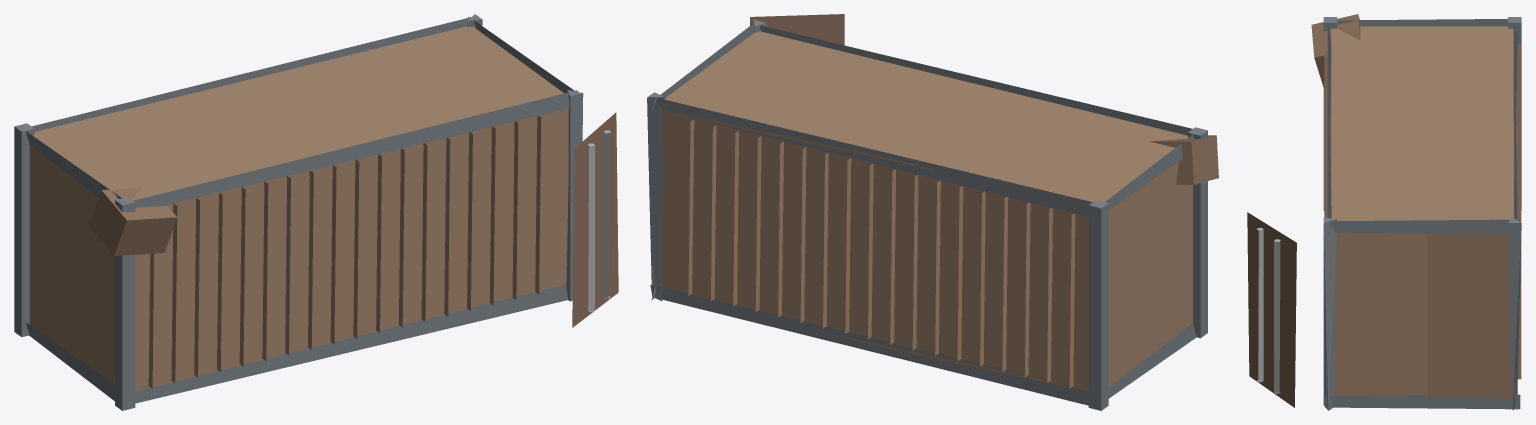
The picture shows the model from 3 angles, left to right: view 1: azimuth 30°, elevation 25°; view 2: azimuth 150°, elevation 25°; view 3: azimuth 270°, elevation 25°; orthographic projection. The views are drawn at different scales.
Parts seen in each view (by area): view 1: sea_cargo_container_sunk.001; view 2: sea_cargo_container_sunk.001; view 3: sea_cargo_container_sunk.001.
Part boxes in pixels (x1,y1,x2,y2): sea_cargo_container_sunk.001: (14, 14, 618, 410); sea_cargo_container_sunk.001: (647, 14, 1218, 410); sea_cargo_container_sunk.001: (1247, 14, 1521, 410).
Bounding box in the file's own units: 6.47 × 2.62 × 3.42.
